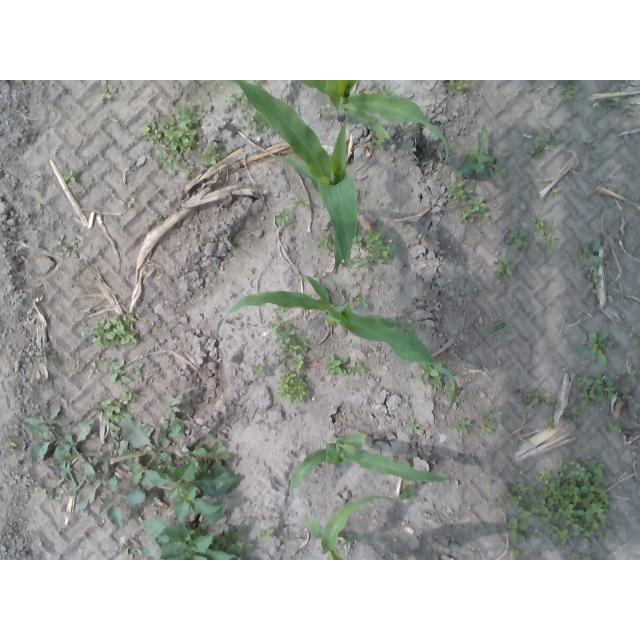Maize: (216, 275, 461, 414), (224, 80, 359, 276), (293, 80, 450, 177), (286, 431, 457, 502), (306, 493, 397, 560)
Weeds: (118, 413, 256, 560), (23, 388, 146, 530), (537, 454, 613, 547), (139, 101, 202, 173), (265, 318, 307, 372), (453, 124, 491, 177), (90, 313, 138, 349), (574, 330, 614, 368), (505, 480, 544, 518), (575, 374, 616, 407), (361, 228, 396, 265), (275, 371, 309, 406), (503, 518, 535, 546), (458, 197, 490, 224), (577, 239, 604, 270), (481, 406, 508, 436), (504, 226, 530, 255), (105, 356, 131, 384), (522, 387, 555, 409), (157, 389, 184, 415), (199, 144, 228, 168), (54, 234, 81, 258), (445, 179, 474, 201), (246, 105, 270, 131), (488, 156, 508, 186), (492, 254, 517, 278), (324, 353, 350, 376), (527, 134, 550, 158), (420, 361, 442, 386), (555, 80, 581, 101), (530, 216, 555, 237), (231, 84, 250, 110), (230, 232, 246, 256), (585, 275, 603, 294), (399, 483, 418, 500), (274, 209, 291, 228), (452, 418, 472, 434), (506, 545, 527, 560), (349, 292, 368, 308), (100, 80, 112, 104), (343, 534, 356, 555), (315, 233, 331, 250), (441, 381, 455, 400), (542, 234, 558, 250), (351, 360, 366, 377), (258, 527, 275, 542), (179, 165, 197, 179), (87, 355, 101, 373), (564, 405, 580, 420), (377, 84, 394, 97), (447, 80, 469, 90), (567, 552, 594, 560), (373, 135, 388, 149), (405, 419, 420, 433), (63, 169, 78, 183), (250, 364, 266, 377), (582, 139, 598, 151), (7, 436, 18, 453), (491, 322, 506, 334), (525, 82, 541, 93), (356, 255, 368, 269), (607, 422, 622, 433), (625, 370, 637, 383), (544, 417, 557, 429), (132, 362, 144, 375), (295, 198, 311, 207), (273, 304, 285, 316), (603, 99, 620, 107), (552, 135, 564, 146), (52, 355, 65, 365), (350, 235, 362, 245), (495, 497, 506, 507), (515, 470, 526, 479), (549, 187, 561, 195), (632, 332, 640, 344), (81, 324, 88, 337), (153, 322, 163, 331), (621, 393, 633, 400), (155, 217, 164, 226), (338, 290, 347, 299), (129, 194, 137, 203), (249, 80, 260, 86), (510, 379, 518, 386)
